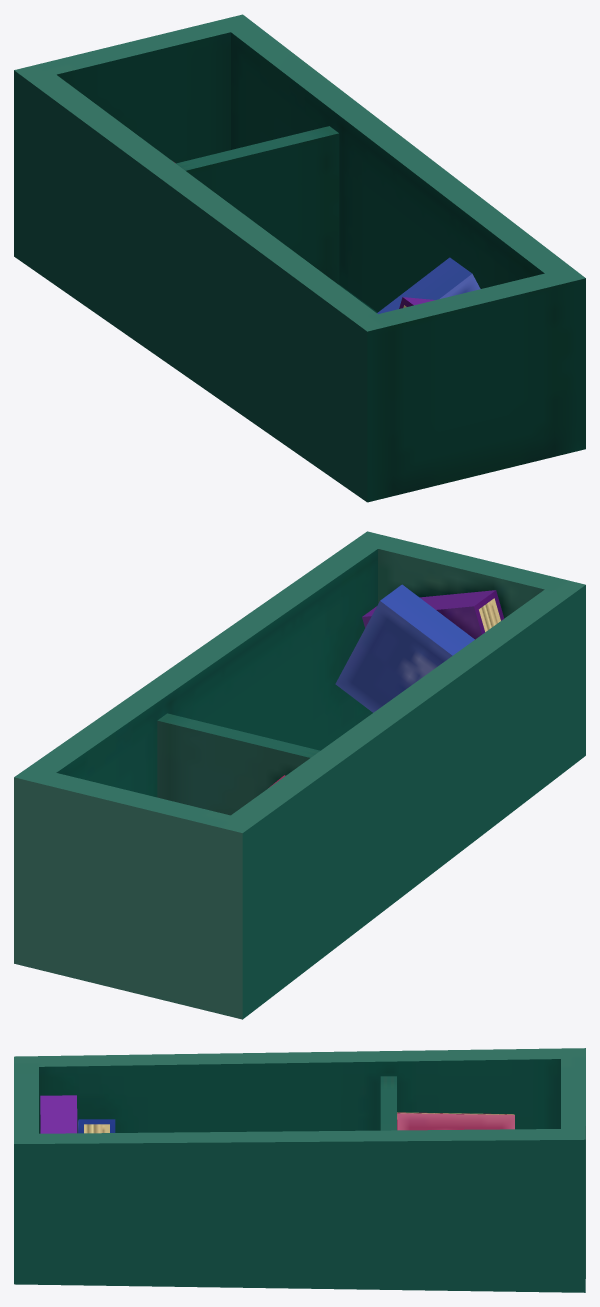
Rendered from Locker.fbx.
The picture shows the model from 3 angles, top to bottom: view 1: azimuth 30°, elevation 25°; view 2: azimuth 150°, elevation 25°; view 3: azimuth 270°, elevation 25°; orthographic projection. The views are drawn at different scales.
Visible parts, largest first — view 1: Locker; view 2: Locker; view 3: Locker.
Boxes of the visible parts, left/top/right/bottom form: Locker: left=14, top=14, right=585, bottom=502; Locker: left=14, top=531, right=585, bottom=1019; Locker: left=14, top=1048, right=585, bottom=1292.
Bounding box in the file's own units: 49.52 × 38.55 × 131.
